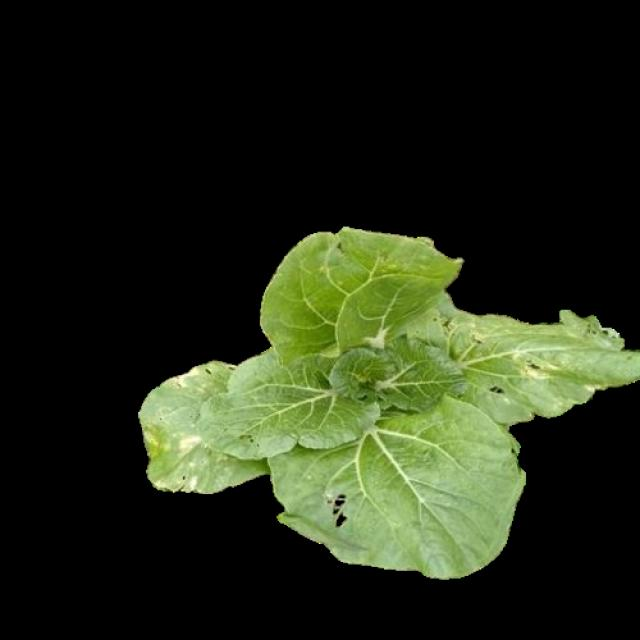mature: (134, 225, 640, 579)
unhealthy: (274, 393, 522, 577), (140, 348, 378, 494), (385, 314, 640, 424)
